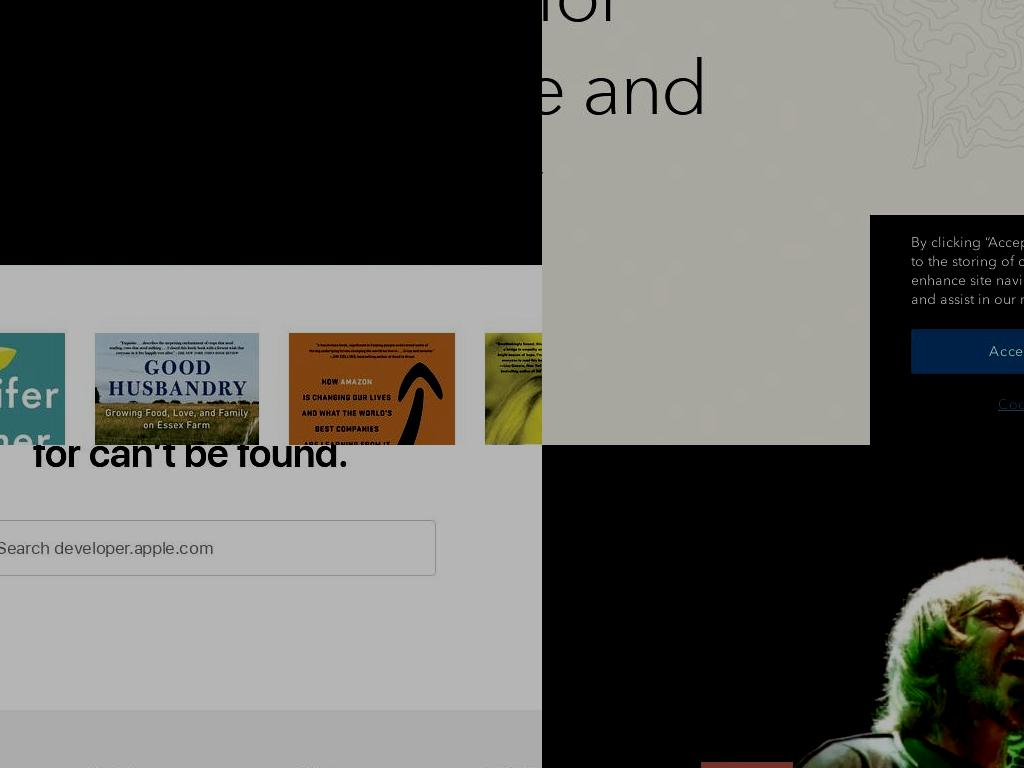button: (911, 328, 1024, 374), (911, 383, 1024, 427), (677, 450, 817, 471)
field: (0, 520, 436, 577)
heading: (542, 0, 745, 228), (0, 445, 401, 475)
image: (0, 0, 542, 265)
text: (542, 445, 1024, 490), (871, 232, 1024, 329)
